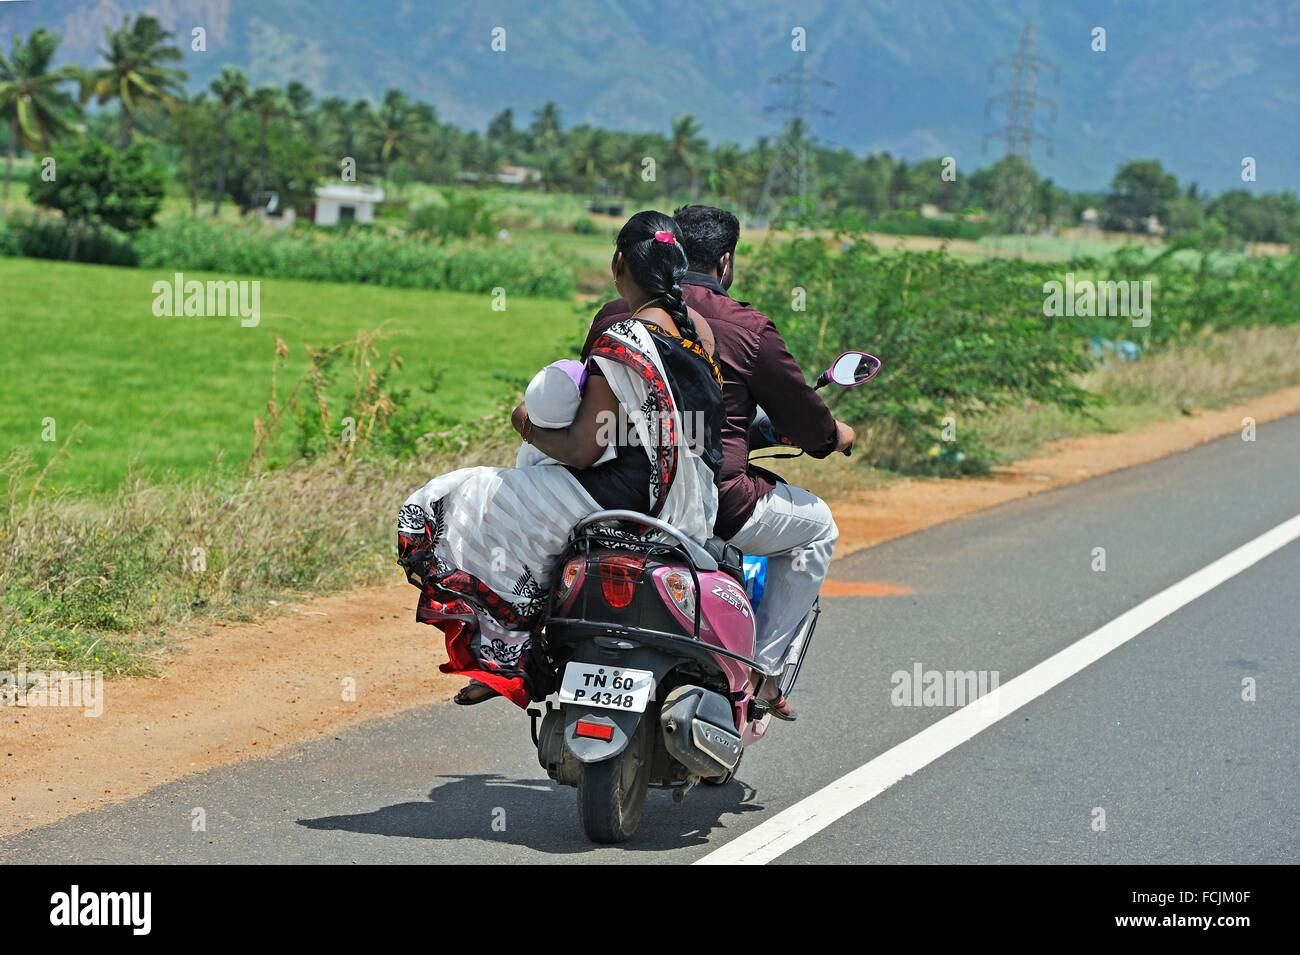motor: (503, 350, 880, 844)
no helmet: (608, 213, 688, 306), (671, 206, 739, 292)
number: (560, 657, 650, 712)
